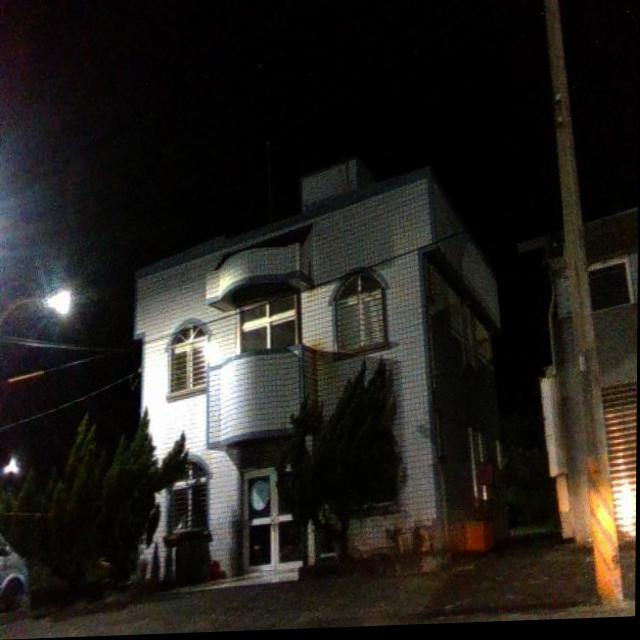pollute: (462, 526, 500, 564)
